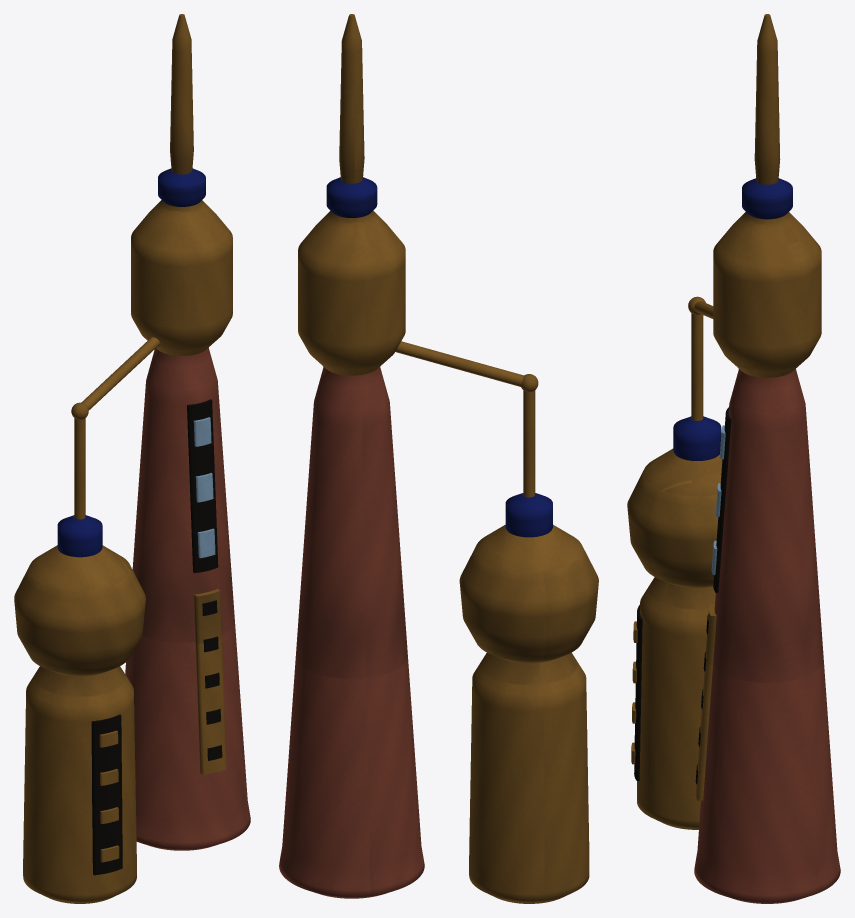
The picture shows the model from 3 angles, left to right: view 1: azimuth 30°, elevation 25°; view 2: azimuth 150°, elevation 25°; view 3: azimuth 270°, elevation 25°; orthographic projection. The views are drawn at different scales.
Visible parts, largest first — view 1: BR13 main tapered body, BR13 side lower cylinder, BR13 side gold globe, BR13 main gold capsule, BR13 main lower gold service field, BR13 side dark service field, BR13 main single mast, BR13 main dark equipment backing, BR13 side blue cap, BR13 main blue collar, BR13 visible link upright, BR13 visible link crosspiece; view 2: BR13 main tapered body, BR13 side lower cylinder, BR13 side gold globe, BR13 main gold capsule, BR13 main single mast, BR13 side blue cap, BR13 main blue collar, BR13 visible link crosspiece, BR13 visible link upright; view 3: BR13 main tapered body, BR13 main gold capsule, BR13 side lower cylinder, BR13 side gold globe, BR13 main single mast, BR13 side blue cap, BR13 main blue collar, BR13 main lower gold service field, BR13 visible link upright, BR13 main dark equipment backing, BR13 side dark service field.
Boxes of the visible parts, x1,y1,x2,y2 form: BR13 main tapered body: (125, 347, 250, 850); BR13 side lower cylinder: (23, 666, 136, 903); BR13 side gold globe: (14, 545, 145, 676); BR13 main gold capsule: (131, 200, 232, 355); BR13 main lower gold service field: (194, 588, 226, 774); BR13 side dark service field: (91, 714, 122, 875); BR13 main single mast: (170, 14, 193, 174); BR13 main dark equipment backing: (187, 399, 218, 573); BR13 side blue cap: (57, 515, 102, 557); BR13 main blue collar: (158, 168, 205, 206); BR13 visible link upright: (74, 418, 85, 519); BR13 visible link crosspiece: (81, 337, 160, 410); BR13 main tapered body: (279, 366, 424, 898); BR13 side lower cylinder: (469, 652, 589, 903); BR13 side gold globe: (459, 524, 598, 663); BR13 main gold capsule: (298, 210, 405, 375); BR13 main single mast: (339, 14, 364, 183); BR13 side blue cap: (505, 493, 552, 537); BR13 main blue collar: (326, 177, 377, 217); BR13 visible link crosspiece: (395, 341, 523, 386); BR13 visible link upright: (523, 390, 535, 497); BR13 main tapered body: (694, 369, 840, 903); BR13 main gold capsule: (713, 212, 821, 377); BR13 side lower cylinder: (637, 577, 715, 829); BR13 side gold globe: (627, 448, 722, 587); BR13 main single mast: (754, 14, 780, 184); BR13 side blue cap: (673, 416, 721, 460); BR13 main blue collar: (742, 178, 792, 219); BR13 main lower gold service field: (695, 603, 716, 800); BR13 visible link upright: (691, 313, 703, 420); BR13 main dark equipment backing: (713, 407, 731, 592); BR13 side dark service field: (634, 605, 642, 780).
Size of the model in its own units: 0.97 by 3 by 0.67.
Materials: 5 (5 with a texture image).
